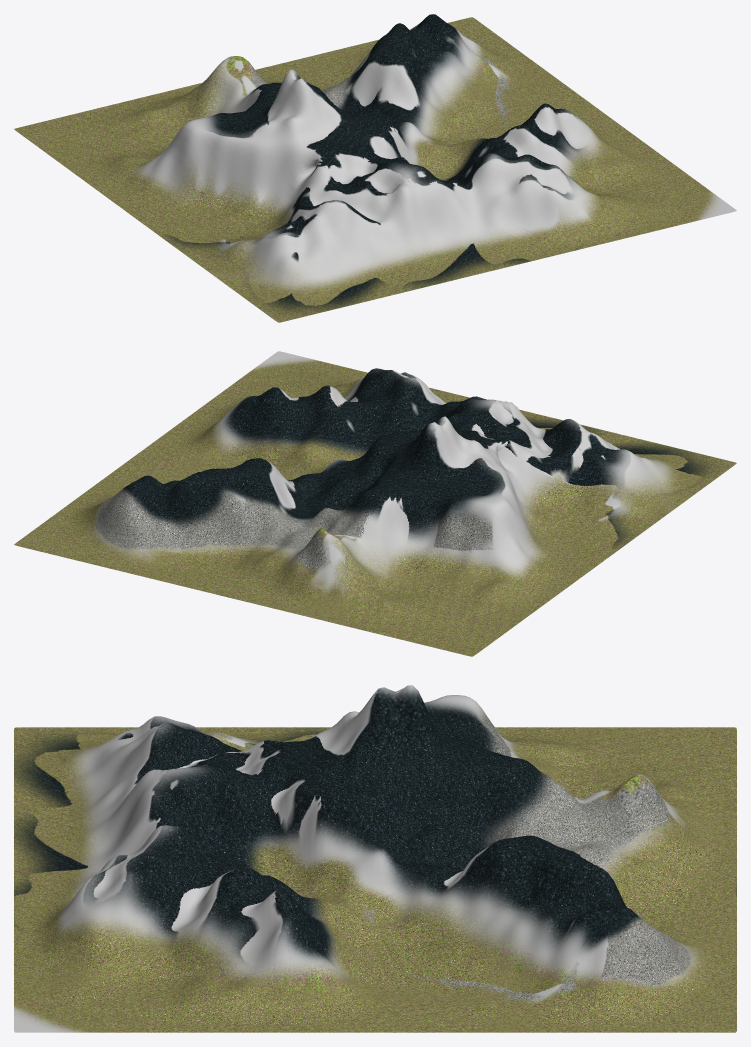
File: terrainBlender.glb
3 views of the same model, one above another, from view 1: azimuth 30°, elevation 25°; view 2: azimuth 150°, elevation 25°; view 3: azimuth 270°, elevation 25° (orthographic). The views are drawn at different scales.
Parts seen in each view (by area): view 1: Landscape; view 2: Landscape; view 3: Landscape.
Boxes of the visible parts, x1,y1,x2,y2 form: Landscape: [14, 14, 736, 322]; Landscape: [14, 351, 736, 656]; Landscape: [14, 685, 736, 1032].
Size of the model in its own units: 39.65 by 8.93 by 39.65.
1 material, 1 textured.
